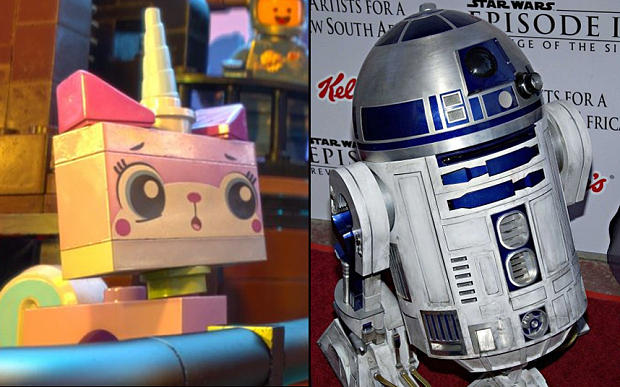r2d2: (318, 2, 591, 386)
